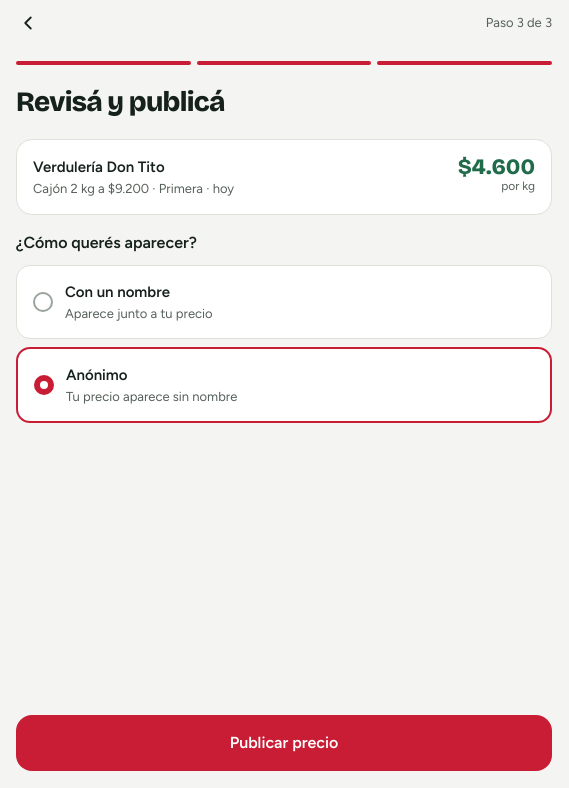
Test: LoadConfirmPage › muestra el límite diario sin reintento (C10)
The image size is (569, 788).
Click the button "Publicar precio": (284, 743) [16,715,552,771]
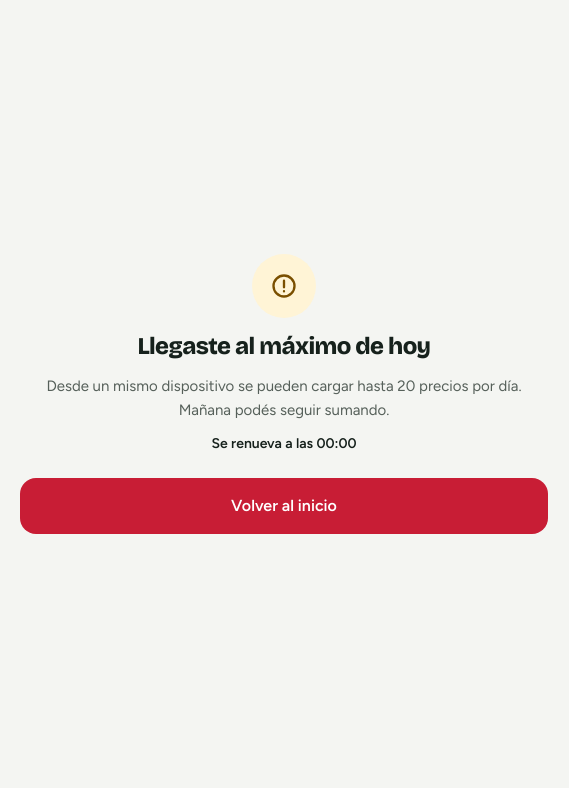
Now the heading "Llegaste al máximo de hoy" is shown, box [138,330,430,362]
Now the text "Se renueva a las 00:00" is shown, box [212,434,357,454]
